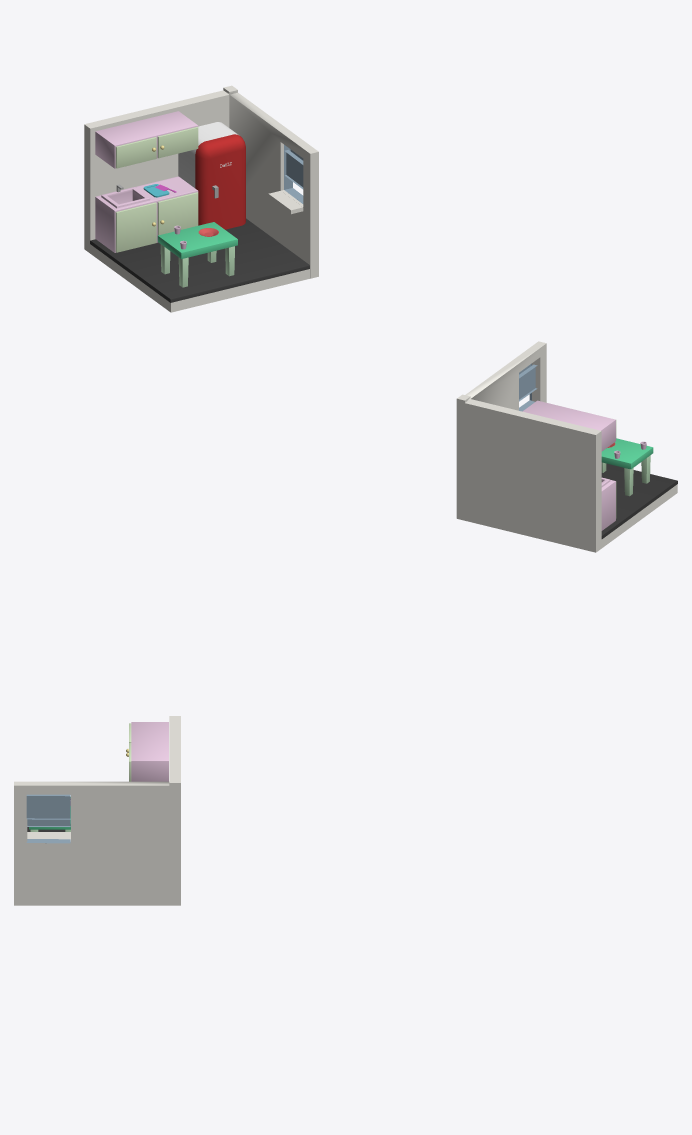
File: EP1_3dMax.glb
3 views of the same model, one above another, from view 1: azimuth 30°, elevation 25°; view 2: azimuth 150°, elevation 25°; view 3: azimuth 270°, elevation 25° (orthographic). The views are drawn at different scales.
Visible parts, largest first — view 1: Pared y base, Piso, puerta refri, Puertas_Inf, Mueble_Sup, Mueble_Inf, Puertas_Sup, Mesa, refri, Mesa_Patas, Ventana; view 2: Pared y base, Piso, Mueble_Inf, Mesa, Mueble_Sup, Ventana, Mesa_Patas; view 3: Pared y base, Mueble_Inf, Ventana.
Part boxes in pixels (x1=…): Pared y base: x1=84, y1=85, x2=318, y2=312; Piso: x1=90, y1=218, x2=309, y2=302; puerta refri: x1=195, y1=134, x2=245, y2=229; Puertas_Inf: x1=115, y1=192, x2=198, y2=252; Mueble_Sup: x1=95, y1=176, x2=198, y2=252; Mueble_Inf: x1=95, y1=111, x2=198, y2=168; Puertas_Sup: x1=115, y1=126, x2=198, y2=168; Mesa: x1=157, y1=222, x2=237, y2=258; refri: x1=178, y1=122, x2=238, y2=187; Mesa_Patas: x1=160, y1=244, x2=234, y2=287; Ventana: x1=284, y1=144, x2=303, y2=203; Pared y base: x1=456, y1=341, x2=677, y2=552; Piso: x1=601, y1=463, x2=677, y2=538; Mueble_Inf: x1=522, y1=400, x2=615, y2=451; Mesa: x1=601, y1=438, x2=653, y2=469; Mueble_Sup: x1=601, y1=477, x2=615, y2=530; Ventana: x1=519, y1=363, x2=537, y2=411; Mesa_Patas: x1=601, y1=455, x2=650, y2=496; Pared y base: x1=14, y1=716, x2=180, y2=905; Mueble_Inf: x1=131, y1=722, x2=168, y2=781; Ventana: x1=26, y1=794, x2=70, y2=843.
Size of the model in its own units: 3649 by 734 by 3598.
